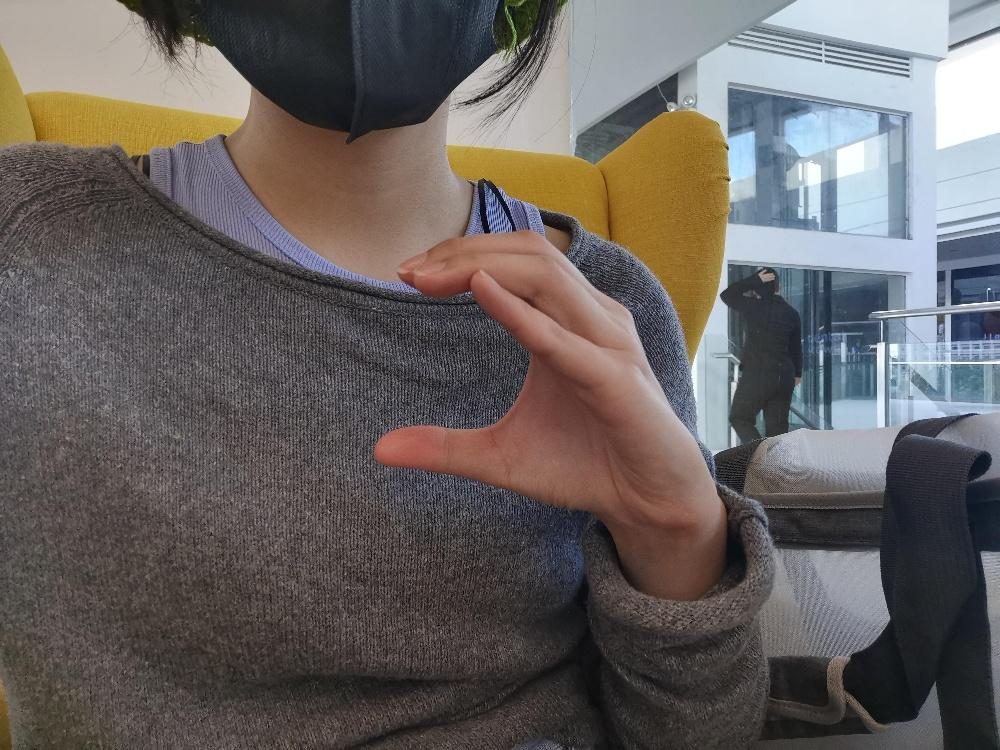c: (366, 224, 713, 533)
